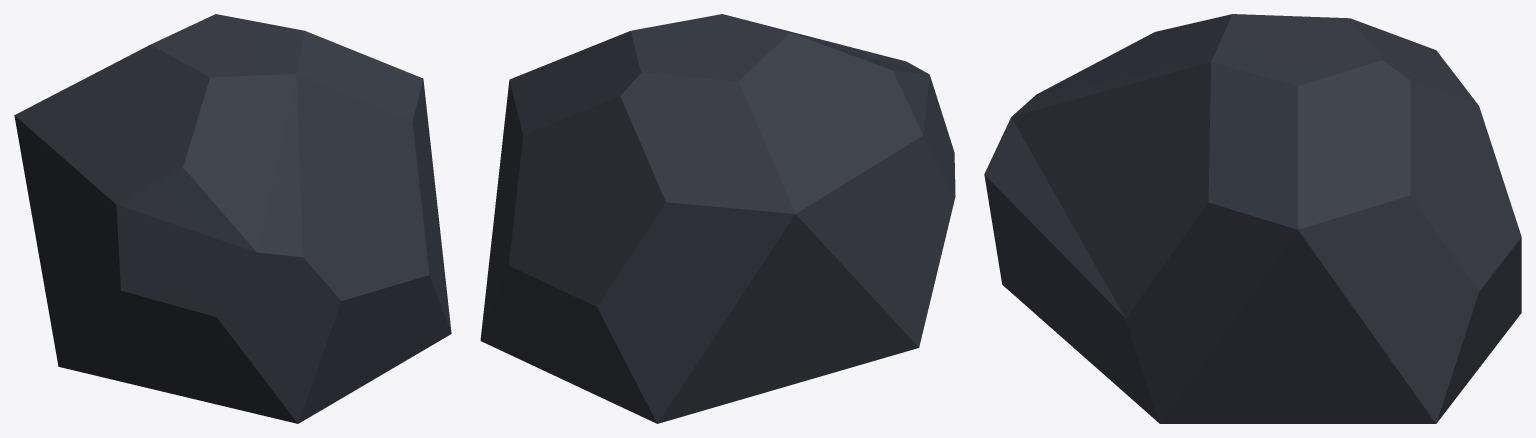
The model's file is Rock_002.fbx.
The picture shows the model from 3 angles, left to right: view 1: azimuth 30°, elevation 25°; view 2: azimuth 150°, elevation 25°; view 3: azimuth 270°, elevation 25°; orthographic projection. The views are drawn at different scales.
Parts seen in each view (by area): view 1: Rock_002; view 2: Rock_002; view 3: Rock_002.
Boxes of the visible parts, x1,y1,x2,y2 form: Rock_002: (14, 14, 451, 423); Rock_002: (480, 14, 955, 423); Rock_002: (984, 14, 1521, 423).
Size of the model in its own units: 153 by 122 by 174.
